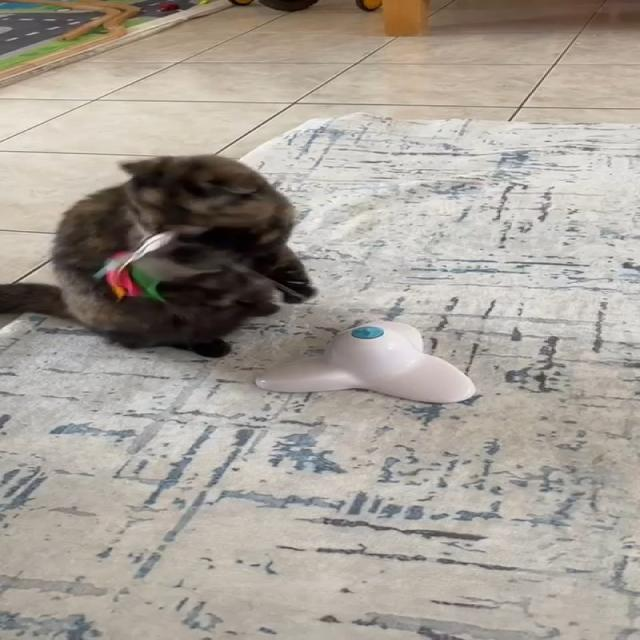authorized: (0, 153, 317, 358)
